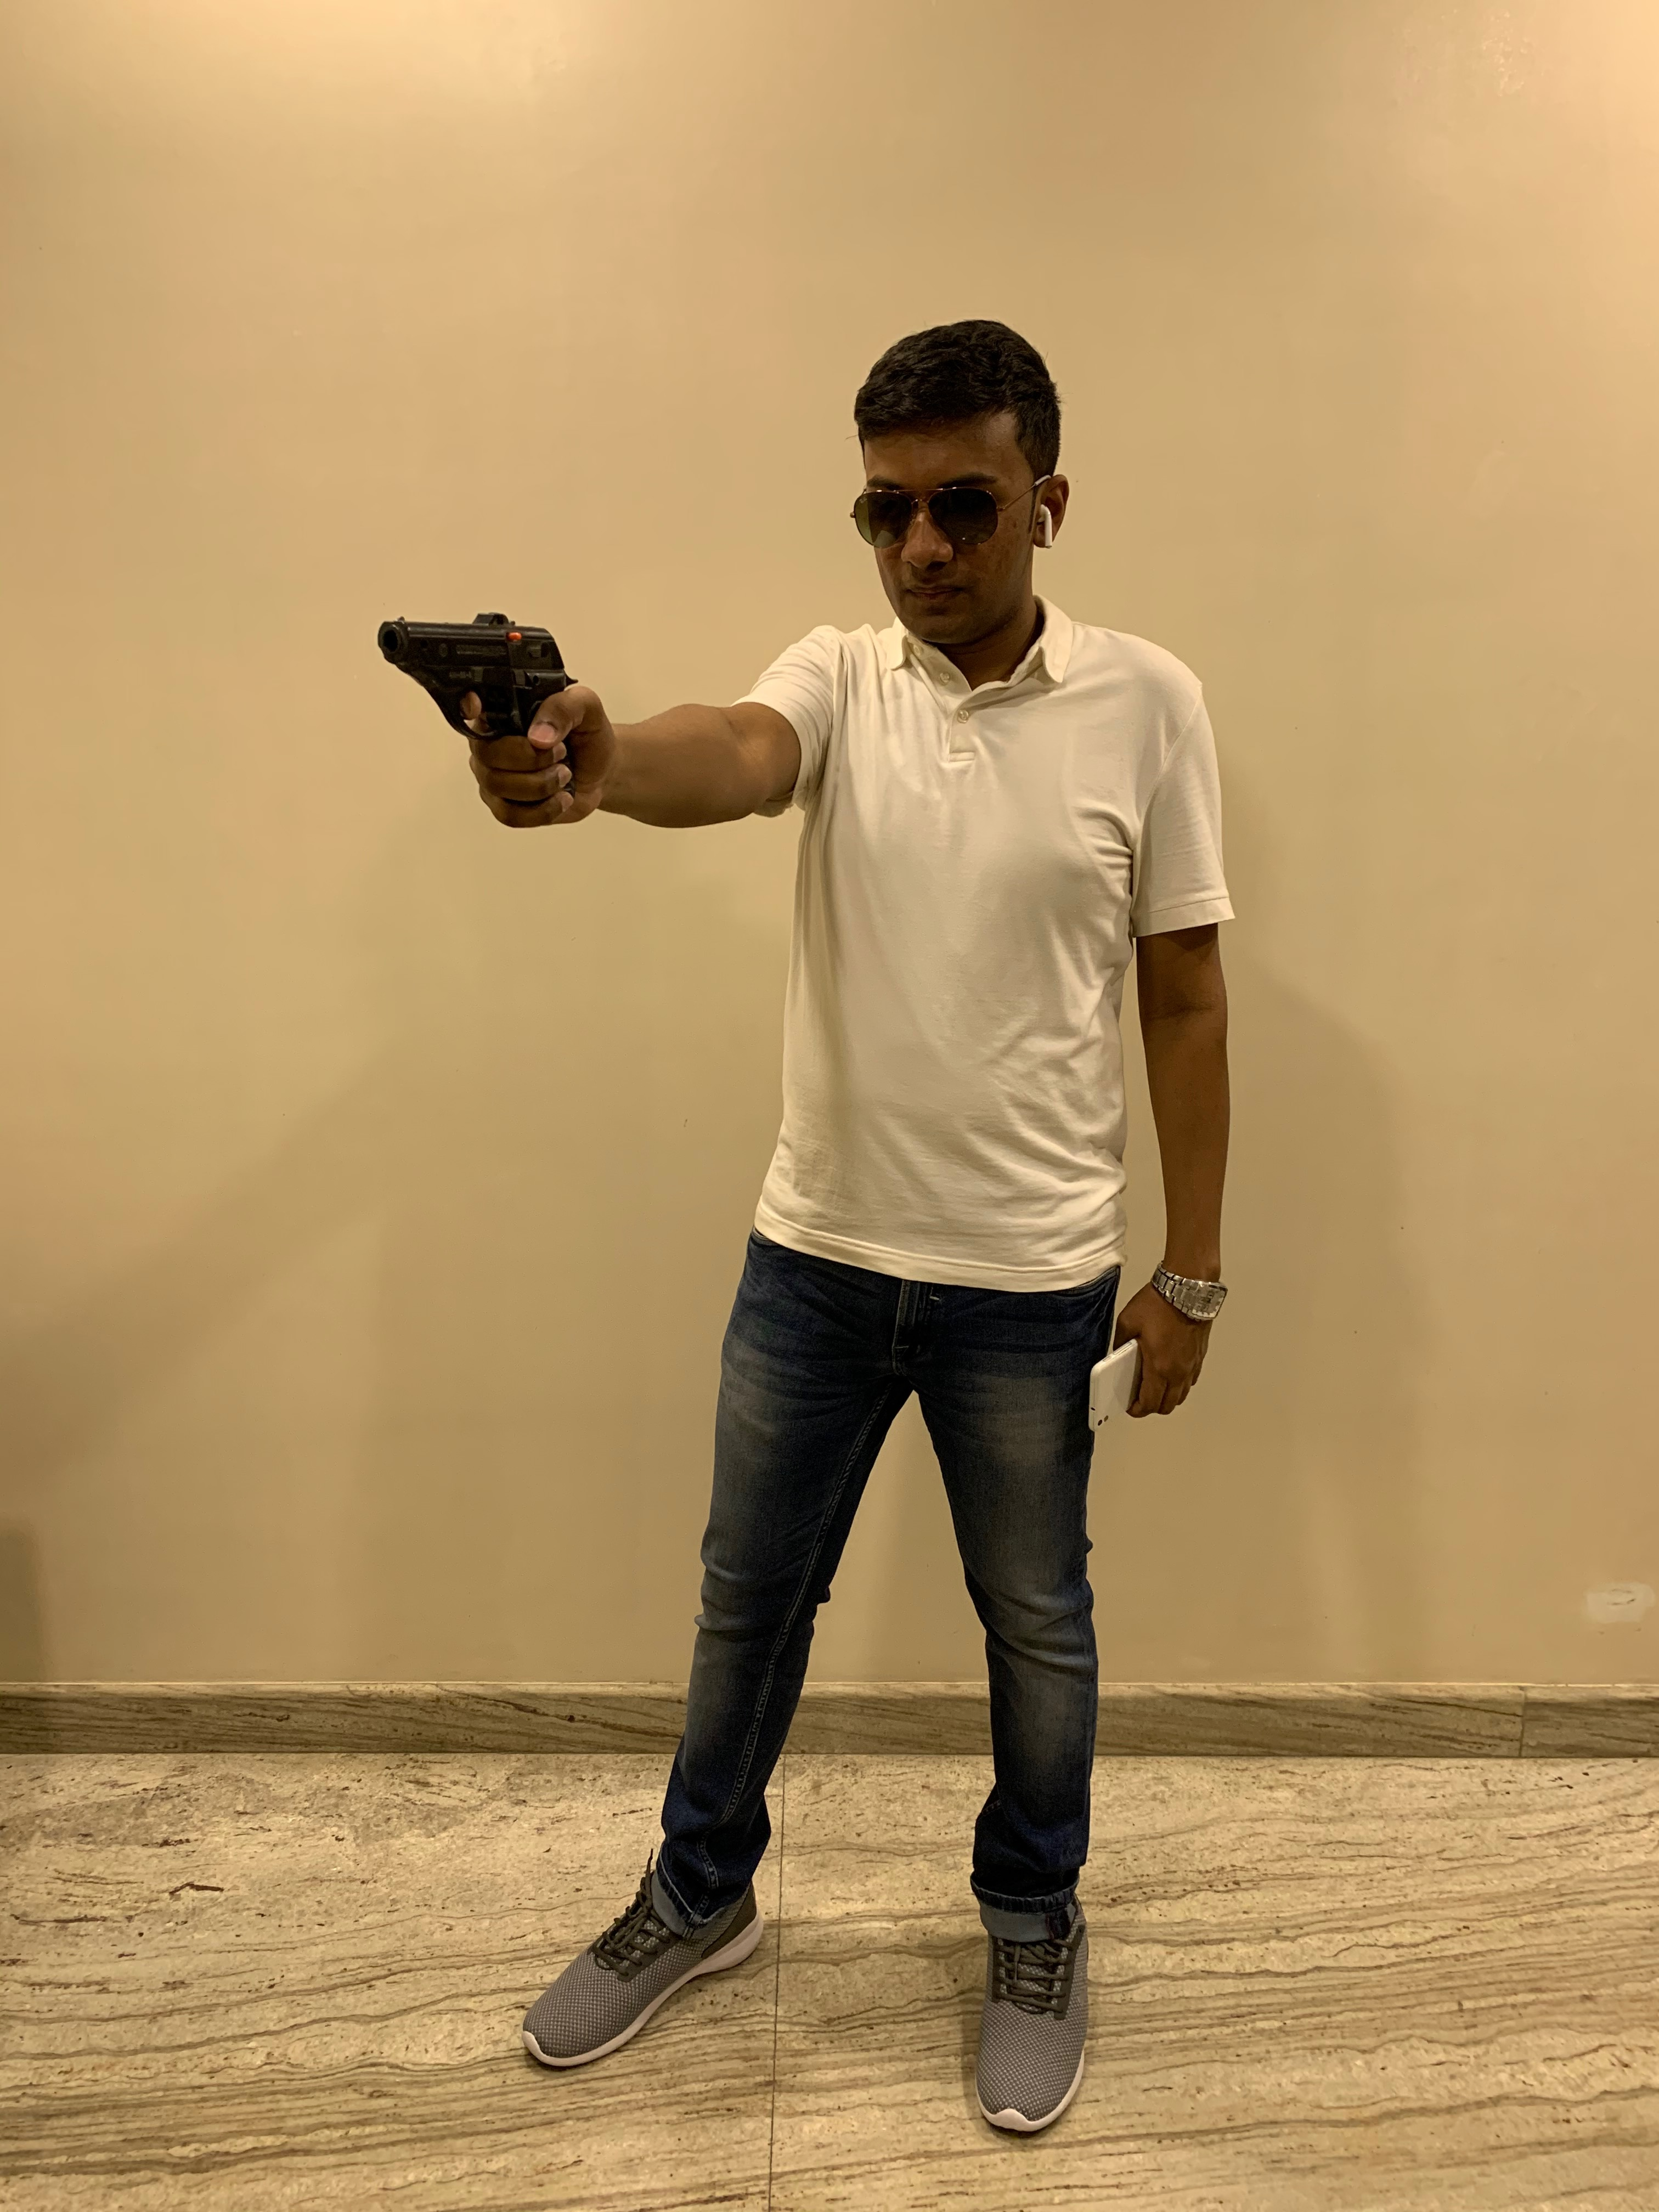gun: (371, 606, 580, 801)
